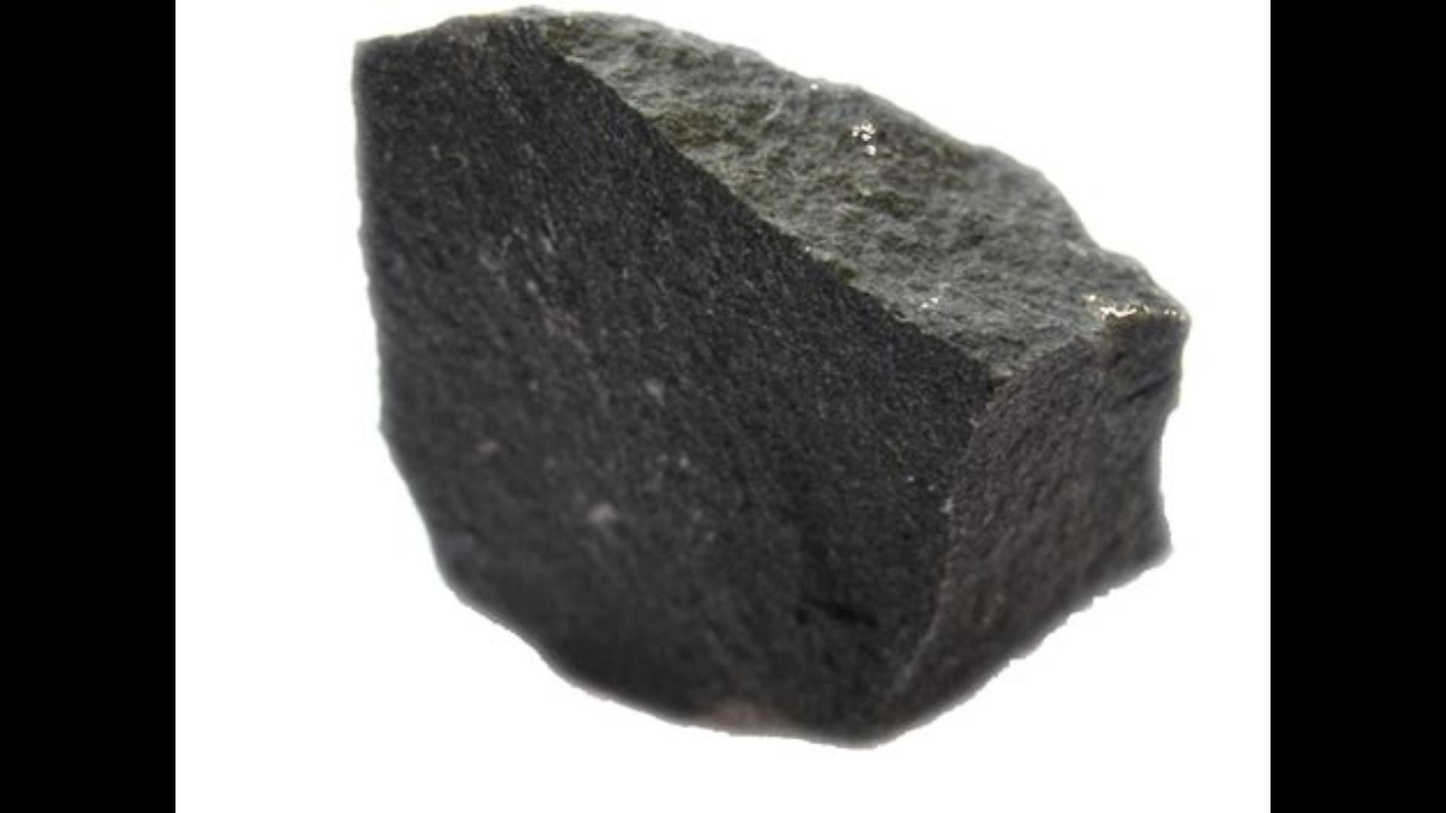rock: (358, 9, 1185, 737)
